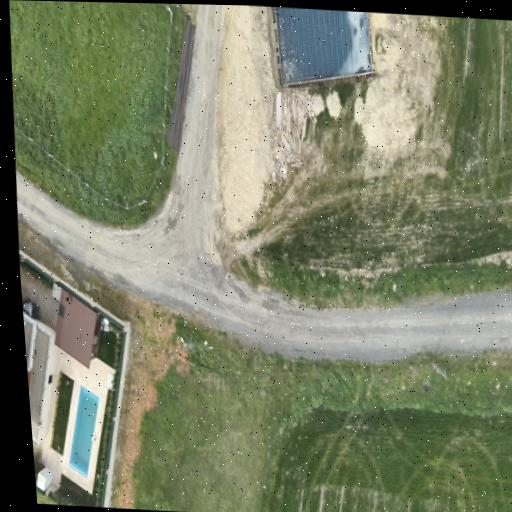car: (22, 300, 40, 319)
